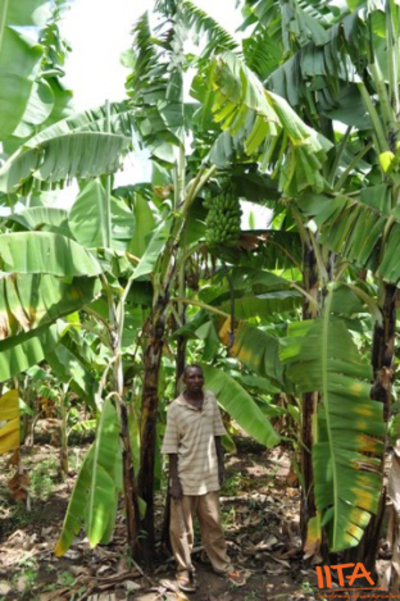bananaHand: (201, 172, 246, 251)
